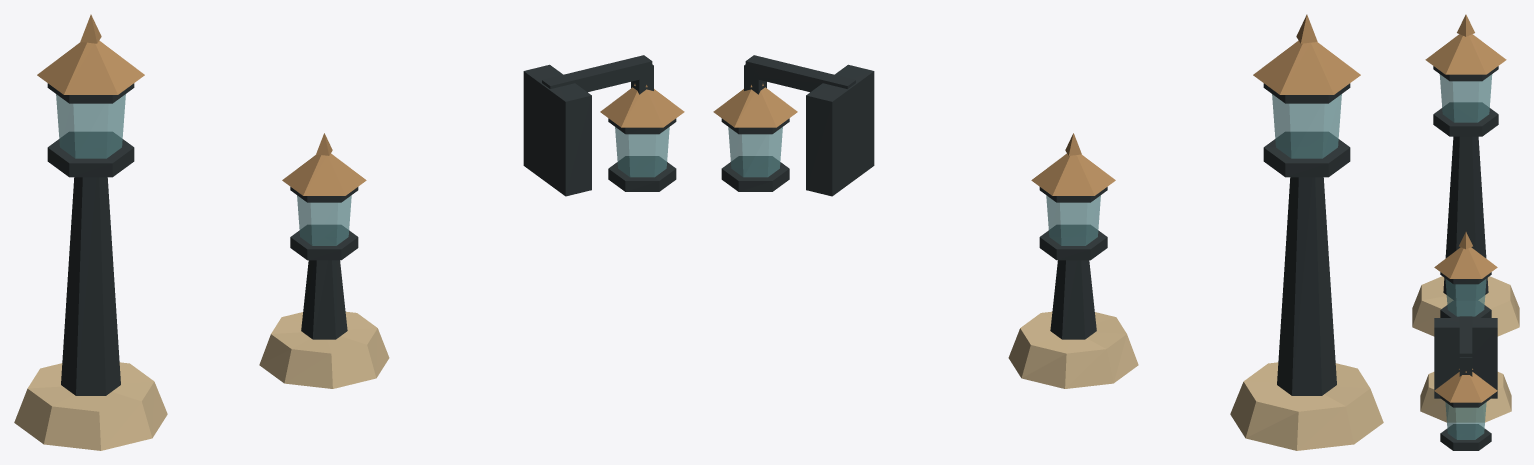
Rendered from Lanterns.glb.
3 views of the same model, side by side, from view 1: azimuth 30°, elevation 25°; view 2: azimuth 150°, elevation 25°; view 3: azimuth 270°, elevation 25° (orthographic). The views are drawn at different scales.
Parts seen in each view (by area): view 1: lanterns-static-lanterns-charcoal-iron-frames, lanterns-static-lanterns-pale-stone-bases, lanterns-static-lanterns-warm-brass-caps, lanterns-static-lanterns-muted-teal-glass; view 2: lanterns-static-lanterns-charcoal-iron-frames, lanterns-static-lanterns-pale-stone-bases, lanterns-static-lanterns-warm-brass-caps, lanterns-static-lanterns-muted-teal-glass; view 3: lanterns-static-lanterns-charcoal-iron-frames, lanterns-static-lanterns-warm-brass-caps, lanterns-static-lanterns-pale-stone-bases, lanterns-static-lanterns-muted-teal-glass.
Boxes of the visible parts, box(x1,y1,x2,y2) form: lanterns-static-lanterns-charcoal-iron-frames: box(47, 55, 676, 395); lanterns-static-lanterns-pale-stone-bases: box(14, 311, 389, 450); lanterns-static-lanterns-warm-brass-caps: box(37, 14, 684, 195); lanterns-static-lanterns-muted-teal-glass: box(56, 94, 669, 245); lanterns-static-lanterns-charcoal-iron-frames: box(721, 55, 1350, 395); lanterns-static-lanterns-pale-stone-bases: box(1008, 311, 1383, 450); lanterns-static-lanterns-warm-brass-caps: box(713, 14, 1360, 195); lanterns-static-lanterns-muted-teal-glass: box(728, 94, 1341, 245); lanterns-static-lanterns-charcoal-iron-frames: box(1433, 66, 1498, 450); lanterns-static-lanterns-warm-brass-caps: box(1425, 14, 1506, 402); lanterns-static-lanterns-pale-stone-bases: box(1412, 276, 1519, 422); lanterns-static-lanterns-muted-teal-glass: box(1439, 74, 1492, 439).
Bounding box in the file's own units: 4.42 × 2.65 × 0.85.
